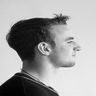ear: (35, 39, 55, 60)
